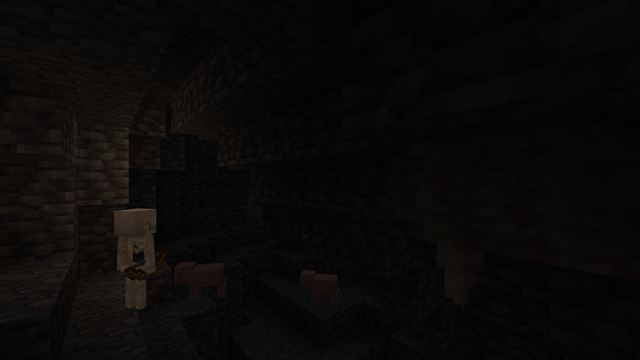cochons: (188, 259, 226, 303), (307, 270, 339, 307)
squelettes: (116, 208, 154, 317)
